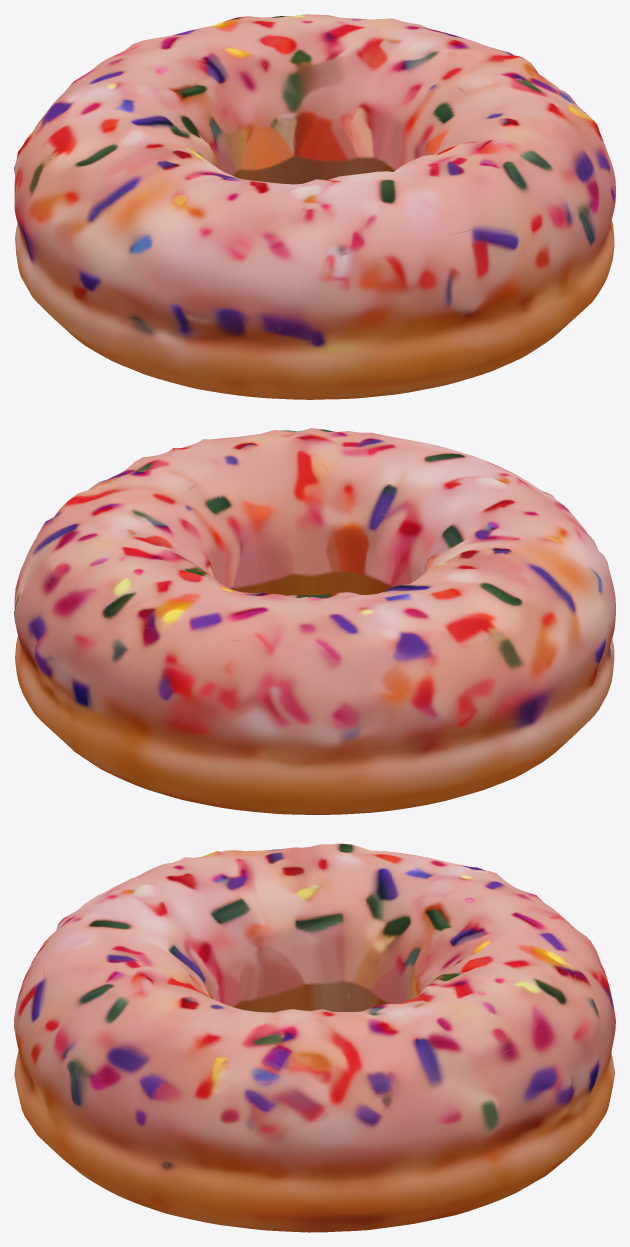
Rendered from lod_basic_shaded.fbx.
The picture shows the model from 3 angles, top to bottom: view 1: azimuth 30°, elevation 25°; view 2: azimuth 150°, elevation 25°; view 3: azimuth 270°, elevation 25°; orthographic projection.
Parts seen in each view (by area): view 1: model_LOD0; view 2: model_LOD0; view 3: model_LOD0.
Part boxes in pixels (bbox=[...]): model_LOD0: bbox=[14, 14, 615, 399]; model_LOD0: bbox=[14, 428, 615, 814]; model_LOD0: bbox=[14, 843, 615, 1232].
Size of what is drawn, in the model's own units: 190 by 67.57 by 187.
